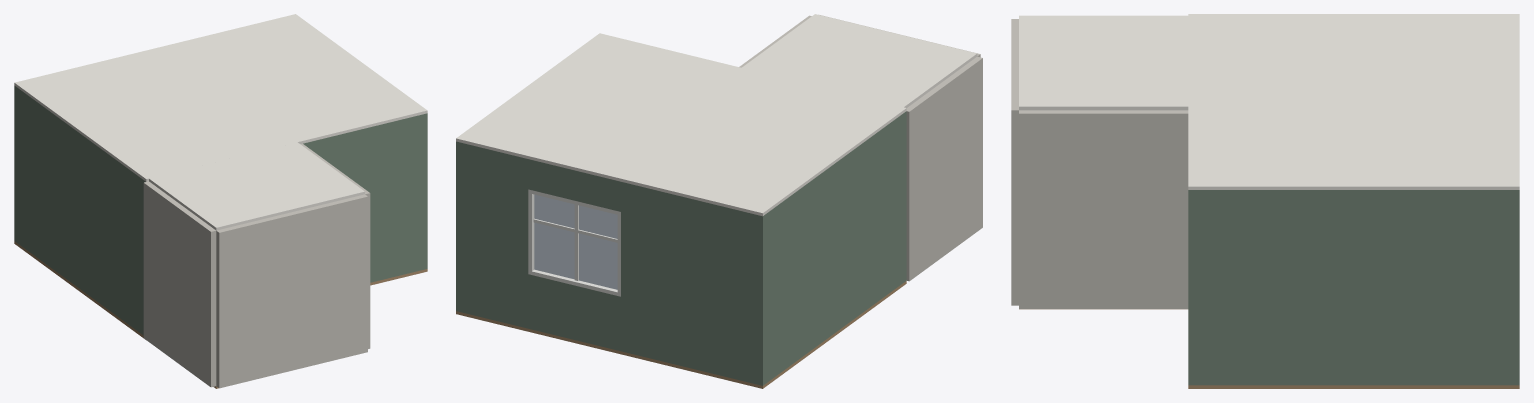
Rendered from room.glb.
3 renders of one model, left to right at view 1: azimuth 30°, elevation 25°; view 2: azimuth 150°, elevation 25°; view 3: azimuth 270°, elevation 25°, orthographic. The views are drawn at different scales.
Visible parts, largest first — view 1: room, hallway; view 2: room, hallway, glass, window; view 3: room, hallway.
Part boxes in pixels (x1,y1,x2,y2): room: (14,14,427,339); hallway: (143,142,370,388); room: (456,33,906,388); hallway: (739,14,982,281); glass: (534,194,617,289); window: (528,189,620,296); room: (1188,14,1519,388); hallway: (1011,15,1188,309).
Bounding box in the file's own units: 5.35 × 2.9 × 6.6.
